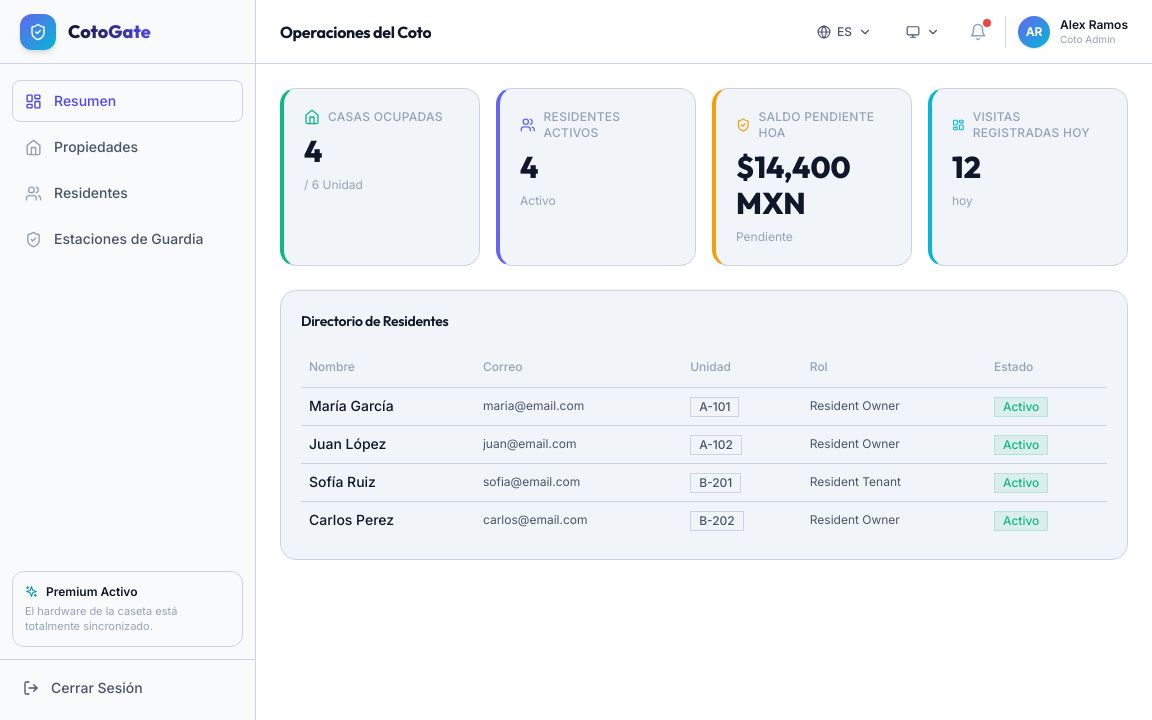
Scenario: CotoAdminDashboard › navigates to the Units tab and shows unit grid
Expected: the heading "Operaciones del Coto" is shown, [280,20,431,44]
Click the button with id "nav-units". click: (128, 147)
box: [12,126,243,168]
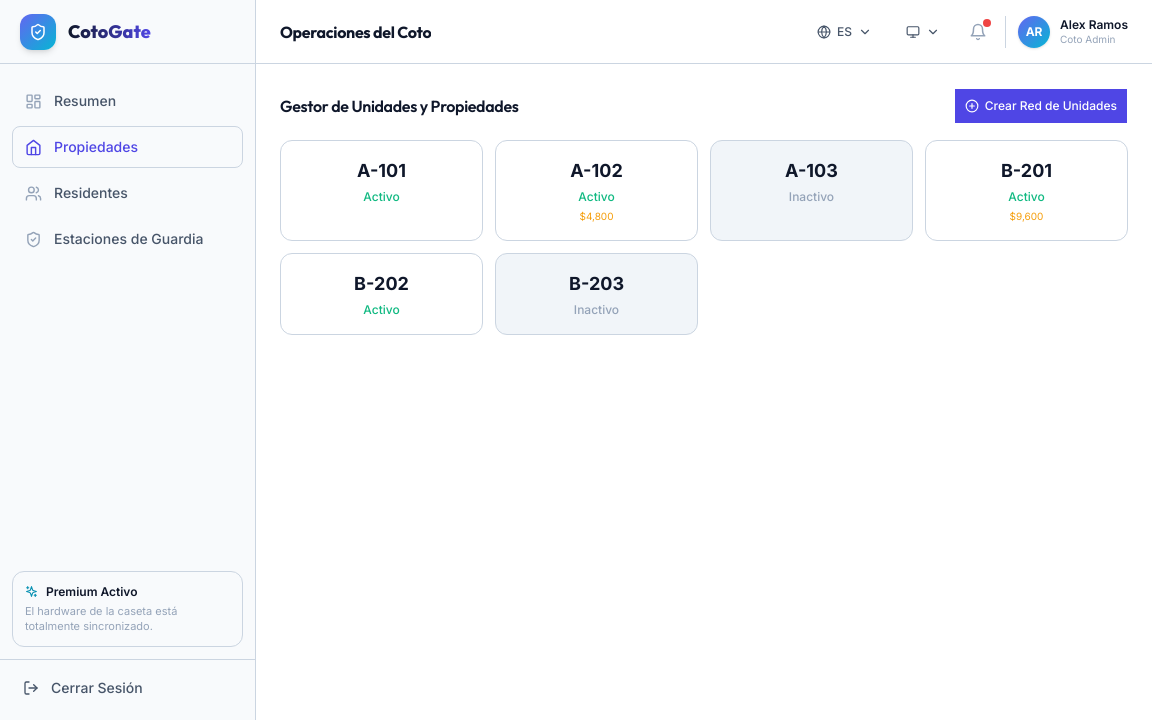
Expected: the text "A-101" is shown, [357,160,406,181]
Expected: the heading "Gestor de Unidades y Propiedades" is shown, [280,94,518,118]
Expected: the text "B-203" is shown, [569,273,624,294]
